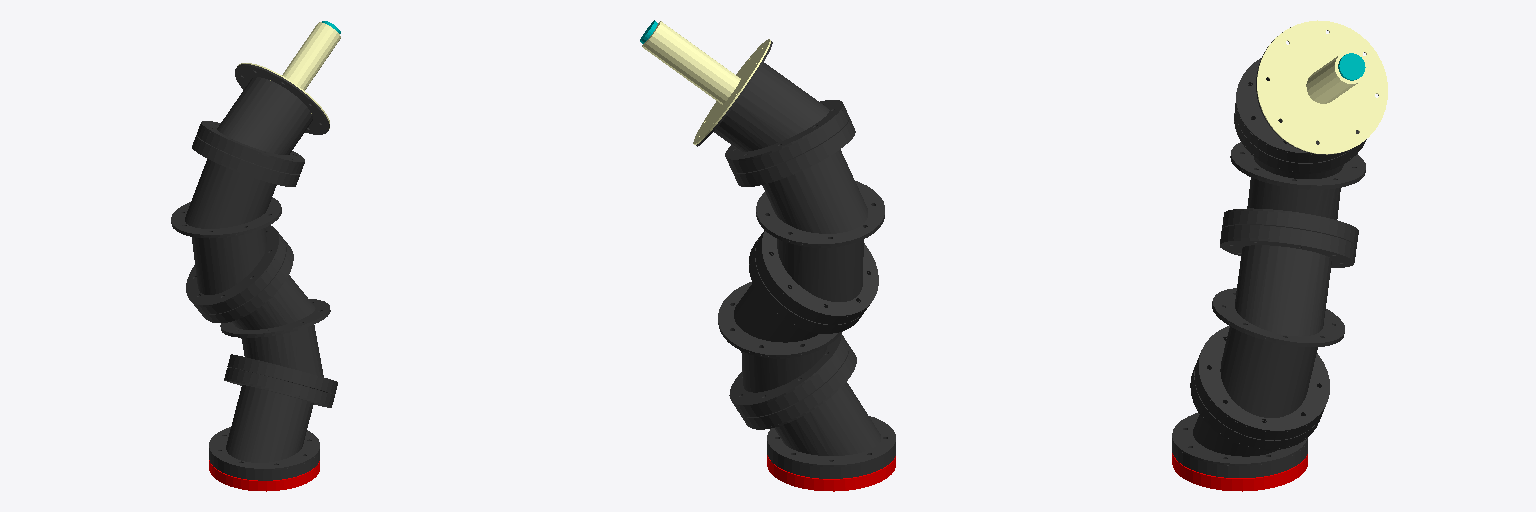
robot.urdf — oblique:
<?xml version="1.0" encoding="utf-8"?>
<!-- This URDF was automatically created by SolidWorks to URDF Exporter! Originally created by [author] ([email redacted]) 
     Commit Version: 1.6.0-1-g15f4949  Build Version: 1.6.7594.29634
     For more information, please see http://wiki.ros.org/sw_urdf_exporter -->
<robot
  name="oblique">
  <link
    name="base_link">
    <inertial>
      <origin
        xyz="4.48268295067994E-18 1.54608196338918E-18 0.0137787803691274"
        rpy="0 0 0" />
      <mass
        value="1.04741818192411" />
      <inertia
        ixx="0.00861703803623353"
        ixy="-7.22239726377857E-19"
        ixz="2.86040049325792E-21"
        iyy="0.00861703803623353"
        iyz="5.99675526590476E-19"
        izz="0.0170925554416552" />
    </inertial>
    <visual>
      <origin
        xyz="0 0 0"
        rpy="0 0 0" />
      <geometry>
        <mesh
          filename="package://oblique/meshes/base_link.STL" />
      </geometry>
      <material
        name="">
        <color
          rgba="1 0 0 1" />
      </material>
    </visual>
    <collision>
      <origin
        xyz="0 0 0"
        rpy="0 0 0" />
      <geometry>
        <mesh
          filename="package://oblique/meshes/base_link.STL" />
      </geometry>
    </collision>
  </link>
  <link
    name="link1">
    <inertial>
      <origin
        xyz="0.025589 -0.12854 -0.02559"
        rpy="0 0 0" />
      <mass
        value="2.9076" />
      <inertia
        ixx="0.02513"
        ixy="-0.0030341"
        ixz="-0.0012469"
        iyy="0.042123"
        iyz="0.0030341"
        izz="0.02513" />
    </inertial>
    <visual>
      <origin
        xyz="0 0 0"
        rpy="0 0 0" />
      <geometry>
        <mesh
          filename="package://oblique/meshes/link1.STL" />
      </geometry>
      <material
        name="">
        <color
          rgba="0.25098 0.25098 0.25098 1" />
      </material>
    </visual>
    <collision>
      <origin
        xyz="0 0 0"
        rpy="0 0 0" />
      <geometry>
        <mesh
          filename="package://oblique/meshes/link1.STL" />
      </geometry>
    </collision>
  </link>
  <joint
    name="joint1"
    type="revolute">
    <origin
      xyz="0 0 0"
      rpy="-1.5708 0 1.3081" />
    <parent
      link="base_link" />
    <child
      link="link1" />
    <axis
      xyz="0 1 0" />
    <limit
      lower="0"
      upper="0"
      effort="0"
      velocity="0" />
  </joint>
  <link
    name="link2">
    <inertial>
      <origin
        xyz="0.0556351182937772 -0.265423425415285 0.0362987763129808"
        rpy="0 0 0" />
      <mass
        value="3.72043125915698" />
      <inertia
        ixx="0.0347334640378498"
        ixy="-0.00418214167893539"
        ixz="0.004201253253051"
        iyy="0.0466459005035067"
        iyz="-0.00418206394696181"
        izz="0.0347336117057682" />
    </inertial>
    <visual>
      <origin
        xyz="0 0 0"
        rpy="0 0 0" />
      <geometry>
        <mesh
          filename="package://oblique/meshes/link2.STL" />
      </geometry>
      <material
        name="">
        <color
          rgba="0.250980392156863 0.250980392156863 0.250980392156863 1" />
      </material>
    </visual>
    <collision>
      <origin
        xyz="0 0 0"
        rpy="0 0 0" />
      <geometry>
        <mesh
          filename="package://oblique/meshes/link2.STL" />
      </geometry>
    </collision>
  </link>
  <joint
    name="joint2"
    type="revolute">
    <origin
      xyz="0 -0.1276 0"
      rpy="0.77462 -1.0409 -0.31366" />
    <parent
      link="link1" />
    <child
      link="link2" />
    <axis
      xyz="0.15596 -0.86603 0.47505" />
    <limit
      lower="0"
      upper="0"
      effort="0"
      velocity="0" />
  </joint>
  <link
    name="link3">
    <inertial>
      <origin
        xyz="0.0650885204685323 -0.108632693040805 0.0650873122034832"
        rpy="0 0 0" />
      <mass
        value="3.72049037085412" />
      <inertia
        ixx="0.0347334742123085"
        ixy="-0.00418214168226356"
        ixz="0.00420126125157861"
        iyy="0.0466459089131412"
        iyz="-0.00418206908065218"
        izz="0.0347336173089129" />
    </inertial>
    <visual>
      <origin
        xyz="0 0 0"
        rpy="0 0 0" />
      <geometry>
        <mesh
          filename="package://oblique/meshes/link3.STL" />
      </geometry>
      <material
        name="">
        <color
          rgba="0.250980392156863 0.250980392156863 0.250980392156863 1" />
      </material>
    </visual>
    <collision>
      <origin
        xyz="0 0 0"
        rpy="0 0 0" />
      <geometry>
        <mesh
          filename="package://oblique/meshes/link3.STL" />
      </geometry>
    </collision>
  </link>
  <joint
    name="joint3"
    type="revolute">
    <origin
      xyz="0.1677 -0.39146 0.14837"
      rpy="-2.4048 -0.42423 -2.6129" />
    <parent
      link="link2" />
    <child
      link="link3" />
    <axis
      xyz="0 0 0" />
    <limit
      lower="0"
      upper="0"
      effort="0"
      velocity="0" />
  </joint>
  <link
    name="link4">
    <inertial>
      <origin
        xyz="0.00793843308426226 -0.0226667563370723 -0.00793871763223047"
        rpy="0 0 0" />
      <mass
        value="1.86021476942104" />
      <inertia
        ixx="0.0154537042638529"
        ixy="-0.000438997649822338"
        ixz="-0.000187521919365907"
        iyy="0.0271491693197183"
        iyz="0.000439014440385299"
        izz="0.0154536188392026" />
    </inertial>
    <visual>
      <origin
        xyz="0 0 0"
        rpy="0 0 0" />
      <geometry>
        <mesh
          filename="package://oblique/meshes/link4.STL" />
      </geometry>
      <material
        name="">
        <color
          rgba="0.250980392156863 0.250980392156863 0.250980392156863 1" />
      </material>
    </visual>
    <collision>
      <origin
        xyz="0 0 0"
        rpy="0 0 0" />
      <geometry>
        <mesh
          filename="package://oblique/meshes/link4.STL" />
      </geometry>
    </collision>
  </link>
  <joint
    name="joint4"
    type="revolute">
    <origin
      xyz="0.17715 -0.23467 0.17715"
      rpy="-1.886 -0.87096 2.8598" />
    <parent
      link="link3" />
    <child
      link="link4" />
    <axis
      xyz="0 0 0" />
    <limit
      lower="0"
      upper="0"
      effort="0"
      velocity="0" />
  </joint>
  <link
    name="link5">
    <inertial>
      <origin
        xyz="-9.15933995315754E-16 0.0789463234648163 -4.44089209850063E-16"
        rpy="0 0 0" />
      <mass
        value="0.894018729395325" />
      <inertia
        ixx="0.00731211835663149"
        ixy="7.15573433840433E-18"
        ixz="1.35525271560688E-18"
        iyy="0.00373182109144146"
        iyz="5.72594272343907E-18"
        izz="0.0073121183566315" />
    </inertial>
    <visual>
      <origin
        xyz="0 0 0"
        rpy="0 0 0" />
      <geometry>
        <mesh
          filename="package://oblique/meshes/link5.STL" />
      </geometry>
      <material
        name="">
        <color
          rgba="1 1 0.752941176470588 1" />
      </material>
    </visual>
    <collision>
      <origin
        xyz="0 0 0"
        rpy="0 0 0" />
      <geometry>
        <mesh
          filename="package://oblique/meshes/link5.STL" />
      </geometry>
    </collision>
  </link>
  <joint
    name="joint5"
    type="fixed">
    <origin
      xyz="0.052066 -0.13254 -0.052066"
      rpy="-0.3876 0.36137 -2.8973" />
    <parent
      link="link4" />
    <child
      link="link5" />
    <axis
      xyz="0 0 0" />
  </joint>
  <link
    name="link6">
    <inertial>
      <origin
        xyz="-7.494E-16 0.13977 -7.7716E-16"
        rpy="0 0 0" />
      <mass
        value="0.24033" />
      <inertia
        ixx="0.0011907"
        ixy="-2.4107E-18"
        ixz="-7.4539E-20"
        iyy="4.8324E-05"
        iyz="2.6538E-18"
        izz="0.0011907" />
    </inertial>
    <visual>
      <origin
        xyz="0 0 0"
        rpy="0 0 0" />
      <geometry>
        <mesh
          filename="package://oblique/meshes/link6.STL" />
      </geometry>
      <material
        name="">
        <color
          rgba="0 0.75294 0.75294 1" />
      </material>
    </visual>
    <collision>
      <origin
        xyz="0 0 0"
        rpy="0 0 0" />
      <geometry>
        <mesh
          filename="package://oblique/meshes/link6.STL" />
      </geometry>
    </collision>
  </link>
  <joint
    name="joint6"
    type="prismatic">
    <origin
      xyz="0 0 0"
      rpy="0 0 0" />
    <parent
      link="link5" />
    <child
      link="link6" />
    <axis
      xyz="0 0 0" />
    <limit
      lower="0"
      upper="0"
      effort="0"
      velocity="0" />
  </joint>
</robot>

--- What the picture shows (computed from the rendered views, not written in the file) ---
3 views of the same robot in one strip: view 1: azimuth 30°, elevation 25°; view 2: azimuth 150°, elevation 25°; view 3: azimuth 270°, elevation 25° (orthographic).
Robot: oblique — 7 links, 6 joints (4 revolute, 1 prismatic, 1 fixed); root link base_link; default pose: all joints at 0.
Visible links, largest first — view 1: link3, link1, link2, link4, link5, base_link; view 2: link3, link2, link1, link4, link5, base_link; view 3: link2, link5, link3, link1, link4, base_link, link6.
Boxes of the visible links, box(x1,y1,x2,y2) form: link3: box(171, 135, 299, 313); link1: box(209, 368, 334, 480); link2: box(198, 240, 337, 394); link4: box(197, 64, 329, 173); link5: box(238, 22, 340, 128); base_link: box(209, 460, 319, 491); link3: box(732, 117, 884, 324); link2: box(718, 238, 863, 416); link1: box(740, 344, 895, 478); link4: box(696, 41, 848, 172); link5: box(642, 21, 770, 144); base_link: box(767, 455, 895, 491); link2: box(1194, 225, 1356, 440); link5: box(1257, 20, 1387, 154); link3: box(1222, 113, 1366, 246); link1: box(1172, 365, 1323, 477); link4: box(1235, 27, 1378, 162); base_link: box(1172, 453, 1307, 491); link6: box(1338, 53, 1365, 80).
Size in the robot's own frame: 0.564 by 0.4755 by 1.15 metres.
Meshes: 7 distinct files referenced, 7 mesh visuals loaded (7 binary STL).